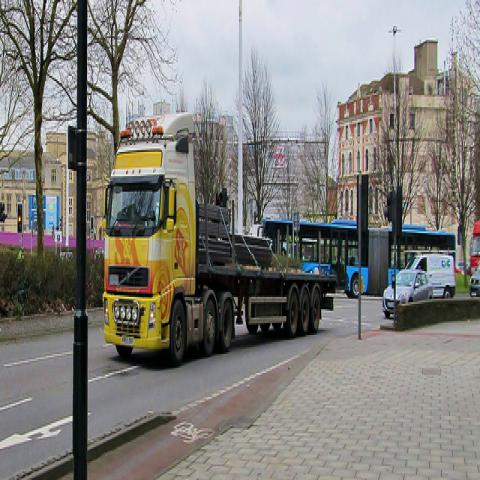bus: (257, 216, 457, 308)
car: (382, 269, 433, 318), (469, 262, 479, 297), (456, 262, 469, 274)
truck: (407, 252, 458, 299)
